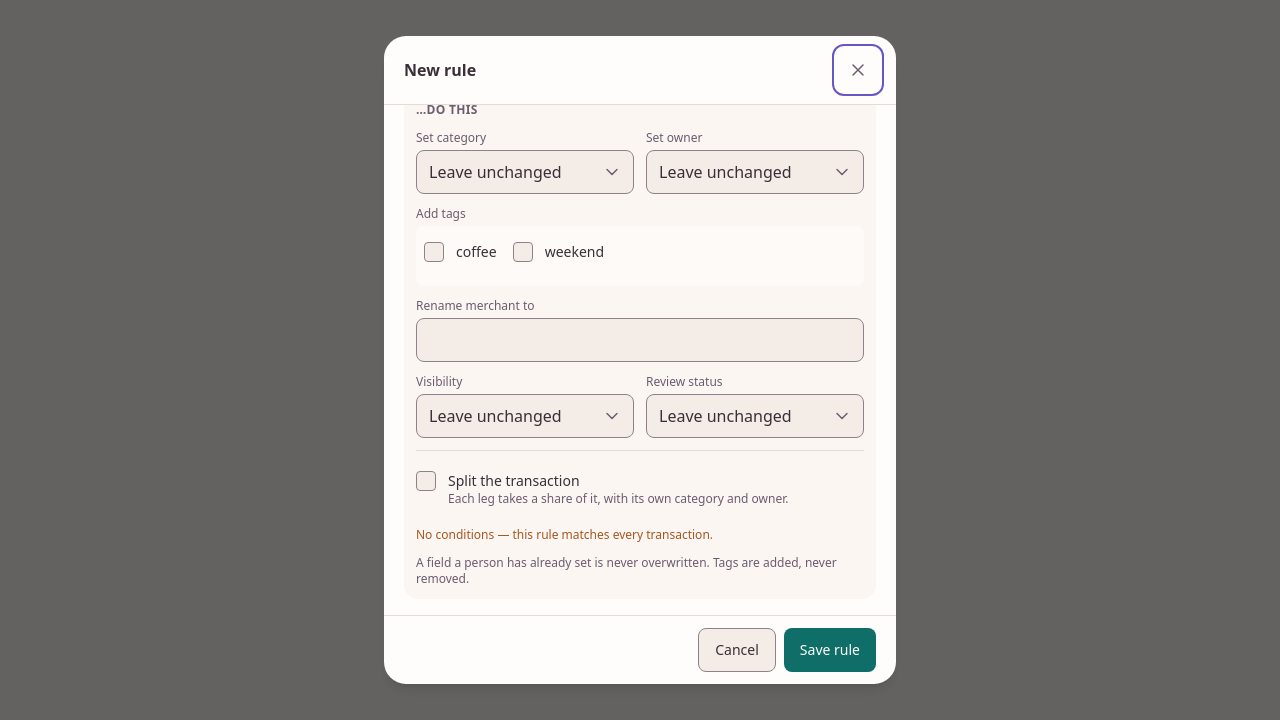
Test: <RuleBuilder /> › refuses amount legs pointing the other way from the rule's own direction
(page scrolled)
Click the checkbox with test id "rule-split-toggle" at (426,481), box [416,471,436,491]
(page scrolled)
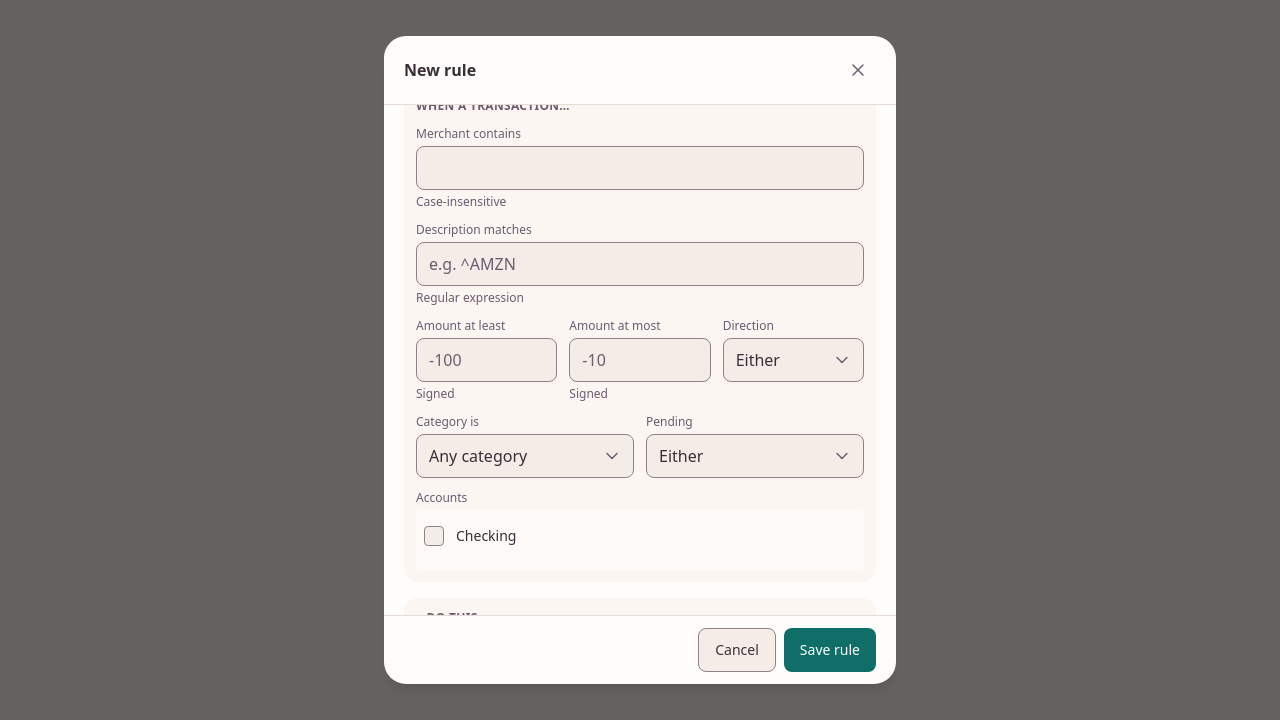
Select "Money out" in the dropdown with test id "rule-direction" at (793,360), box [723,338,864,382]
(page scrolled)
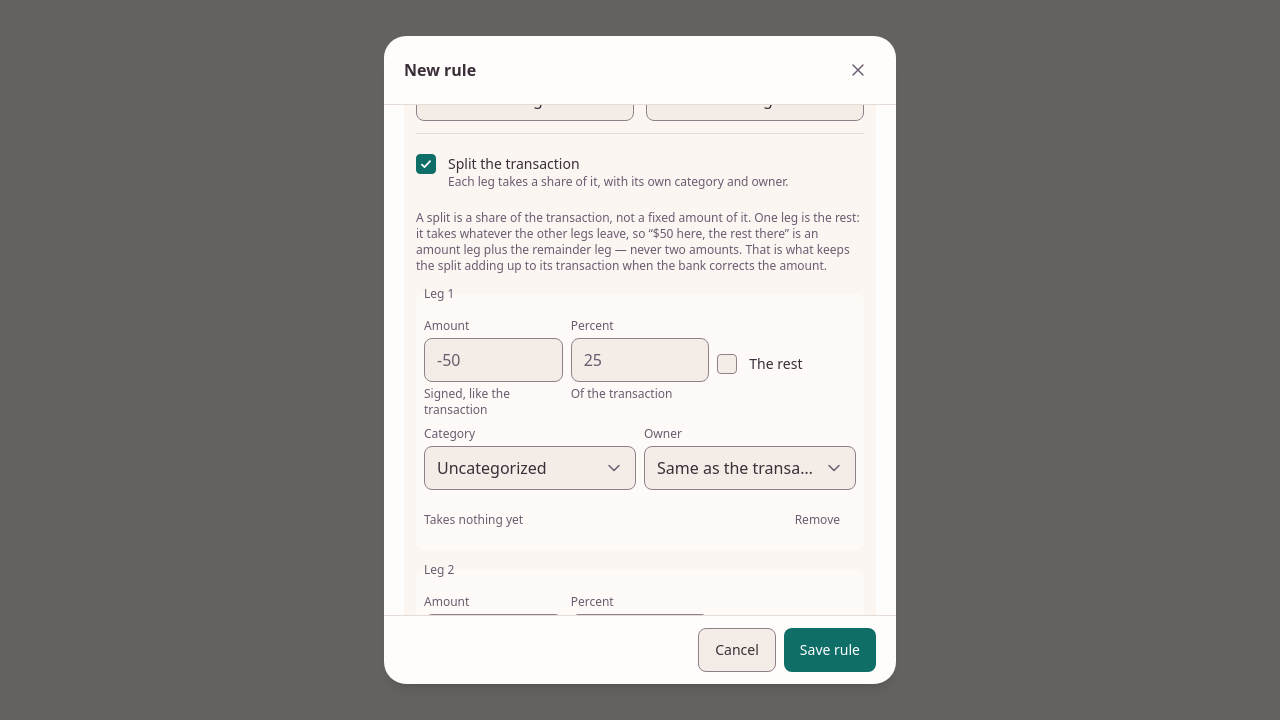
Type "50" into the field with test id "rule-split-leg-0-amount" at (493,360), box [424,338,563,382]
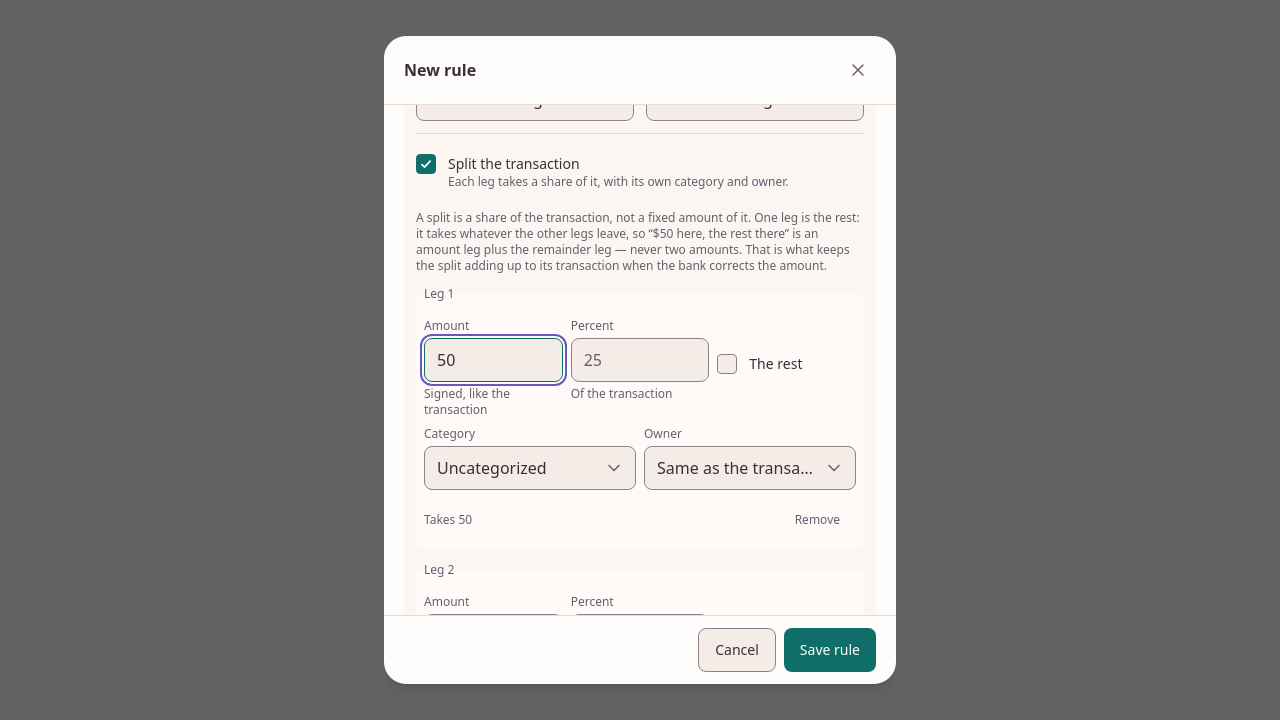
Click the button with test id "rule-save" at (830,650), box [784,628,876,672]
(page scrolled)
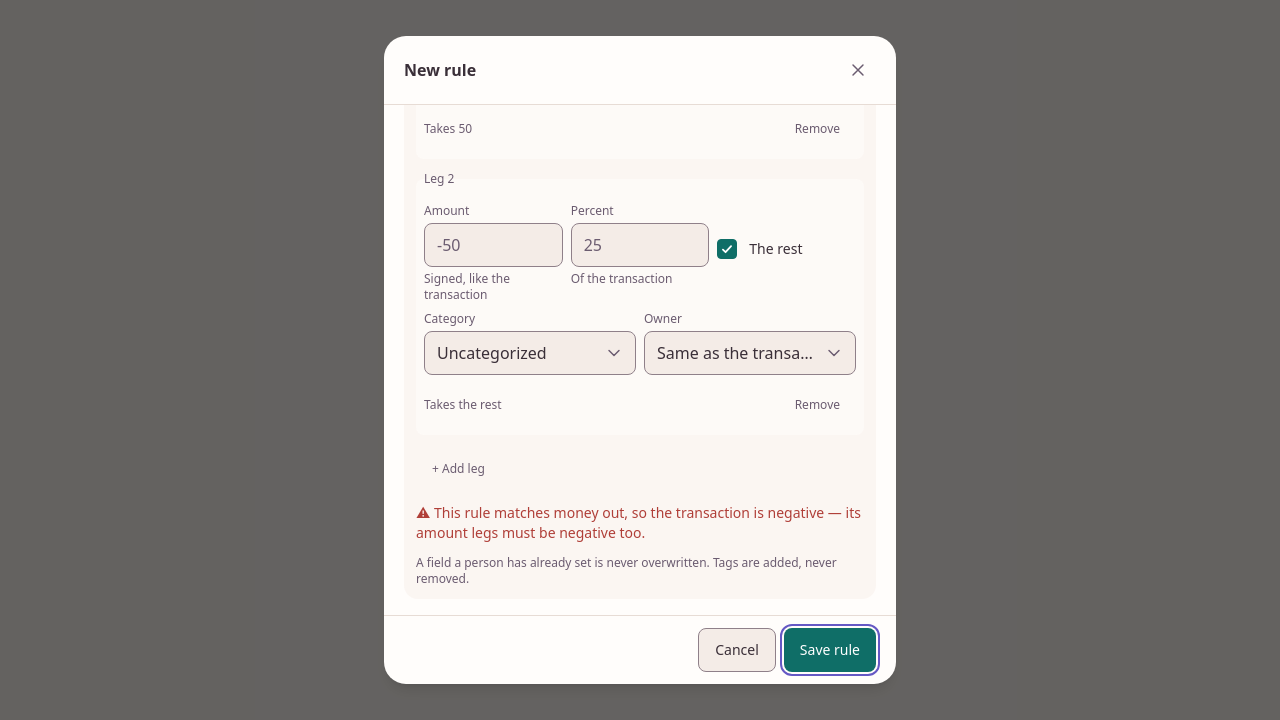
Expected: the element with test id "rule-split-error" shows "its amount legs must be negative too", [416,503,861,542]
